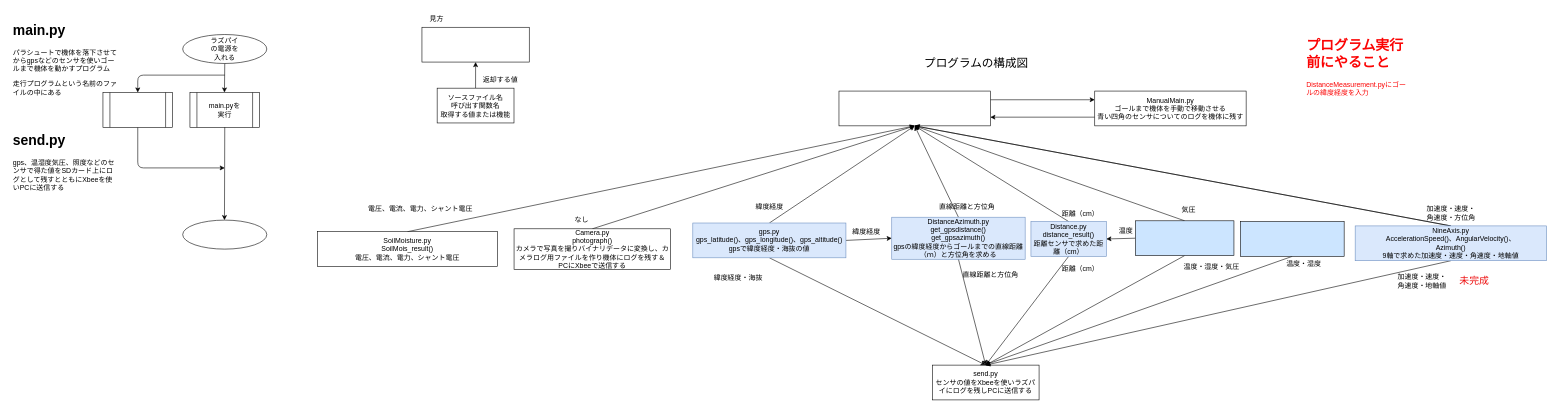
The diagram is 1557 pixels wide and 410 high, and some of its shapes have lost their labels. The shapes that lost their labels are listed below. From the top down, each one's box as (x1, y1, x2, y2) in pixels, then its label:
(421, 27, 529, 62): 呼び出す元のソースファイル名 取得する値または機能
(102, 92, 173, 127): send.pyを実行
(838, 90, 990, 126): main.py ゴールまで機体を移動させる 青い四角のセンサについてのログを機体に残す
(182, 220, 267, 249): ラズパイの電源が切れる
(1135, 220, 1234, 256): Temperature.py Temperature_result() 外気の温度・湿度・気圧を測る
(1240, 221, 1344, 256): BatteryTemp.py BatteryTemp_result() バッテリーの温度・湿度を測る
